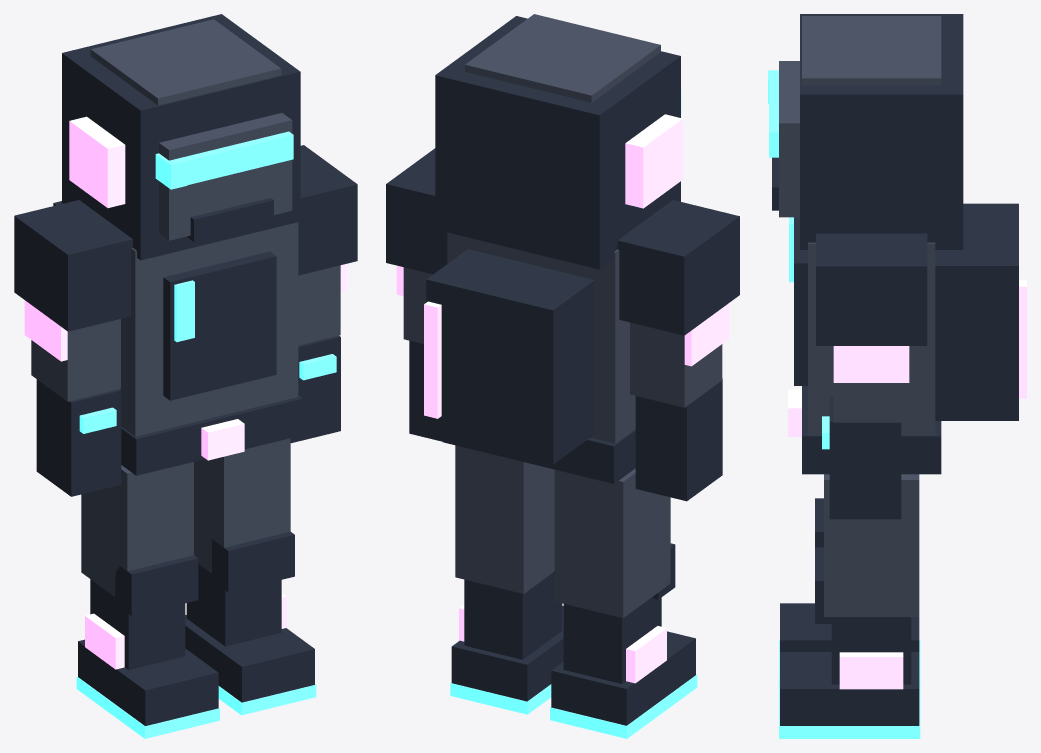
The model's file is thief.gltf.
3 renders of one model, left to right at view 1: azimuth 30°, elevation 25°; view 2: azimuth 150°, elevation 25°; view 3: azimuth 270°, elevation 25°, orthographic. The views are drawn at different scales.
Visible parts, largest first — view 1: Hood, Tactical_jacket, Chest_plate, Left_shoulder, Left_thigh, Helmet_top, Right_thigh, Face_mask, Left_glove, Left_boot, Right_boot, Right_shoulder (+20 smaller); view 2: Hood, Backpack, Left_thigh, Left_shoulder, Right_thigh, Helmet_top, Left_glove, Tactical_jacket, Right_shin, Left_boot, Right_shoulder, Left_sleeve (+11 smaller); view 3: Hood, Backpack, Right_shoulder, Right_thigh, Helmet_top, Right_boot, Right_glove, Tactical_jacket, Right_shin, Face_mask, Right_sleeve, Belt (+10 smaller).
Boxes of the visible parts, x1,y1,x2,y2 form: Hood: [62, 14, 300, 260]; Tactical_jacket: [119, 222, 298, 436]; Chest_plate: [163, 251, 276, 400]; Left_shoulder: [14, 200, 132, 331]; Left_thigh: [81, 462, 193, 596]; Helmet_top: [90, 19, 281, 105]; Right_thigh: [194, 438, 290, 573]; Face_mask: [159, 113, 292, 240]; Left_glove: [36, 379, 121, 496]; Left_boot: [78, 639, 218, 725]; Right_boot: [185, 615, 314, 702]; Right_shoulder: [298, 145, 357, 275]; Hood: [435, 16, 680, 269]; Backpack: [426, 249, 594, 464]; Left_thigh: [554, 468, 670, 617]; Left_shoulder: [617, 200, 739, 335]; Right_thigh: [455, 445, 554, 593]; Helmet_top: [465, 14, 660, 102]; Left_glove: [635, 378, 722, 501]; Tactical_jacket: [447, 232, 635, 443]; Right_shin: [464, 572, 562, 659]; Left_boot: [551, 631, 695, 725]; Right_shoulder: [386, 148, 447, 274]; Left_sleeve: [630, 322, 722, 407]; Hood: [800, 14, 963, 249]; Backpack: [935, 203, 1018, 420]; Right_shoulder: [816, 233, 927, 345]; Right_thigh: [824, 474, 919, 616]; Helmet_top: [802, 16, 941, 85]; Right_boot: [780, 652, 919, 725]; Right_glove: [829, 396, 901, 519]; Tactical_jacket: [808, 242, 935, 435]; Right_shin: [831, 617, 911, 684]; Face_mask: [779, 61, 799, 217]; Right_sleeve: [833, 383, 909, 422]; Belt: [802, 386, 941, 474].
Bounding box in the file's own units: 0.87 × 1.8 × 0.65.
